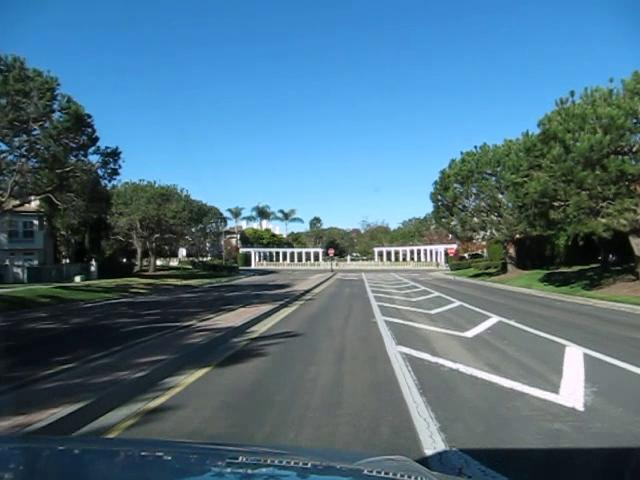stop: (446, 246, 455, 255)
